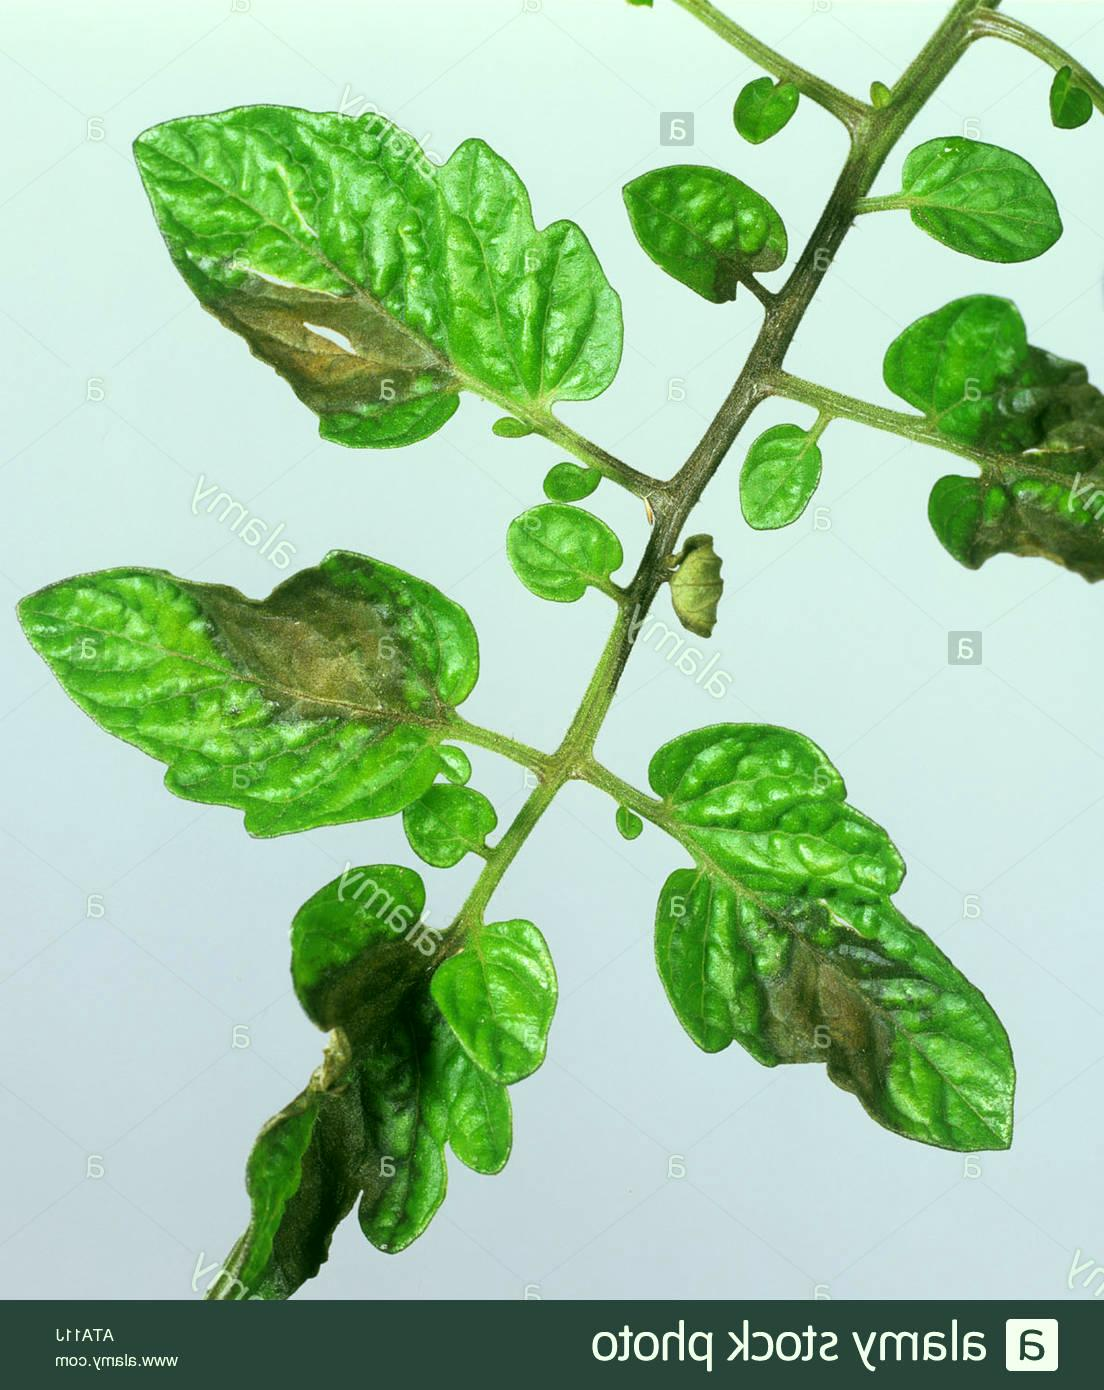Tomato leaf late blight: (112, 77, 632, 458), (620, 704, 1031, 1180), (182, 846, 573, 1275), (11, 546, 493, 872)
